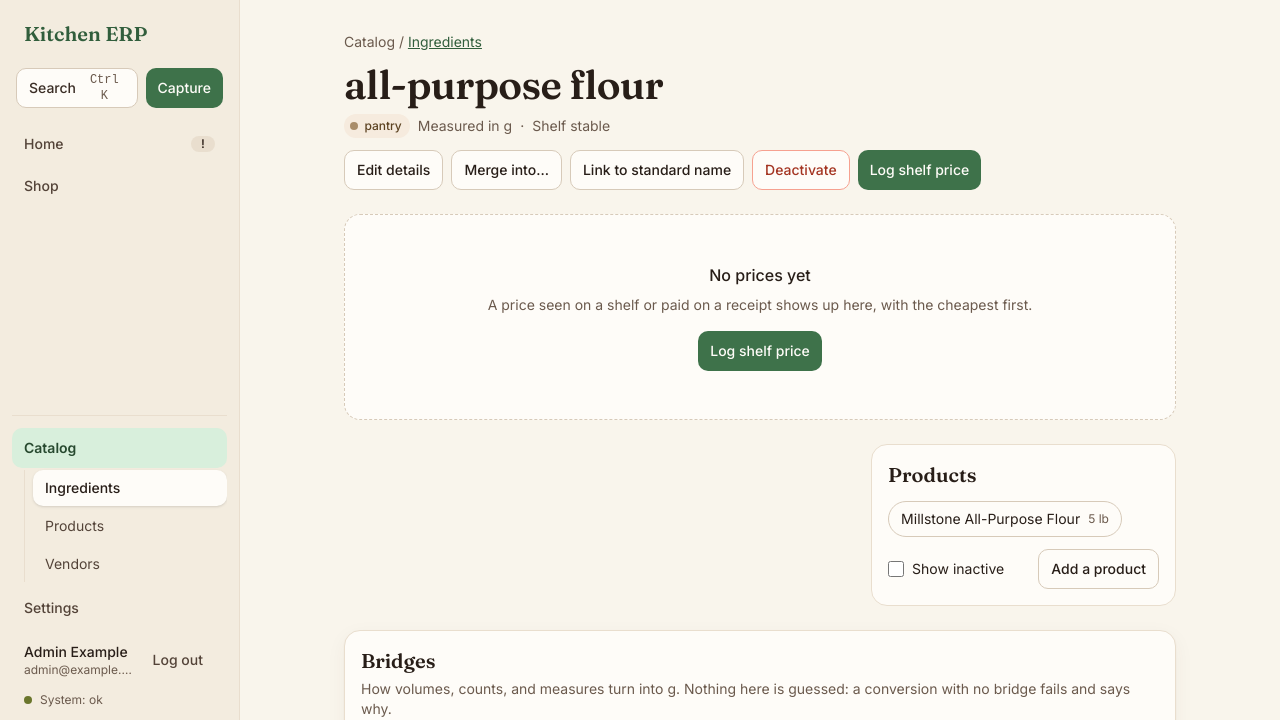
an ingredient's own page › refuses to merge an ingredient into itself
The image size is (1280, 720).
Click the button "Merge into…": {"x": 507, "y": 170} [451,150,562,190]
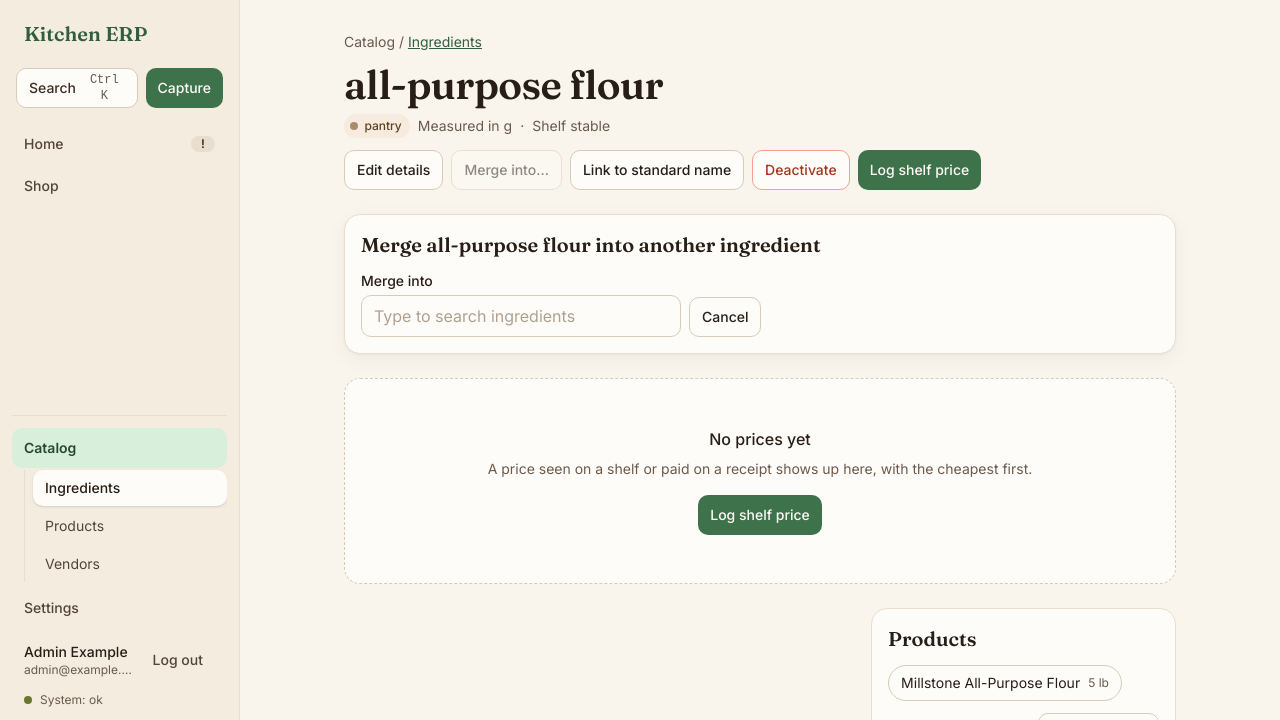
In the dropdown labelled "Merge into": {"x": 521, "y": 316} [361,295,681,337], type "flour"
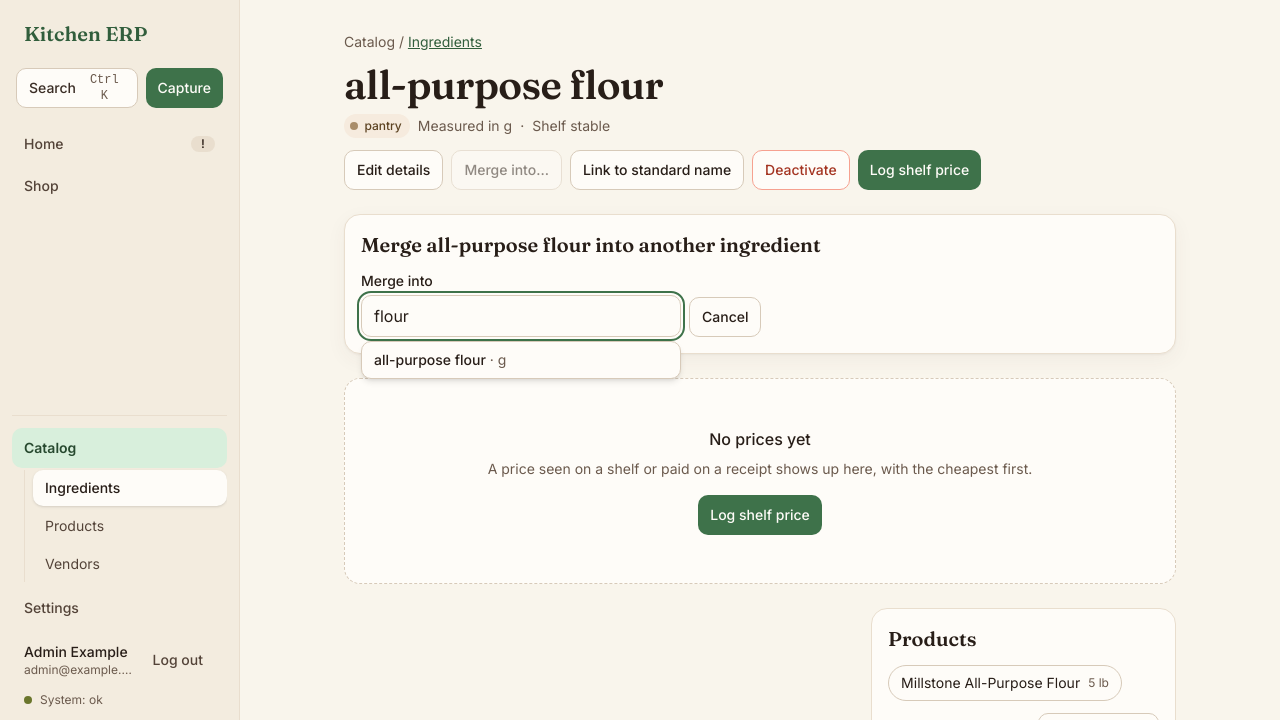
Click the option "all-purpose flour · g": {"x": 440, "y": 360} [374,351,506,368]
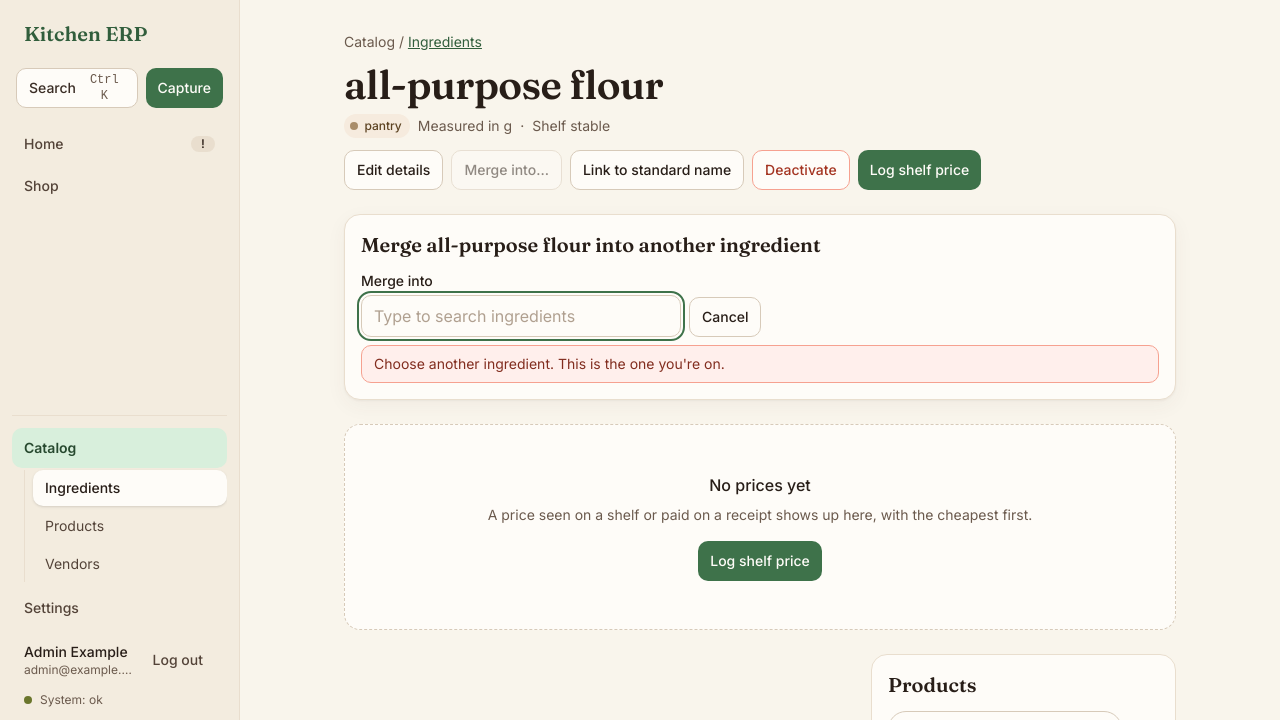
Now the message "Choose another ingredient. This is the one you're on." is shown, box [361,345,1159,383]
